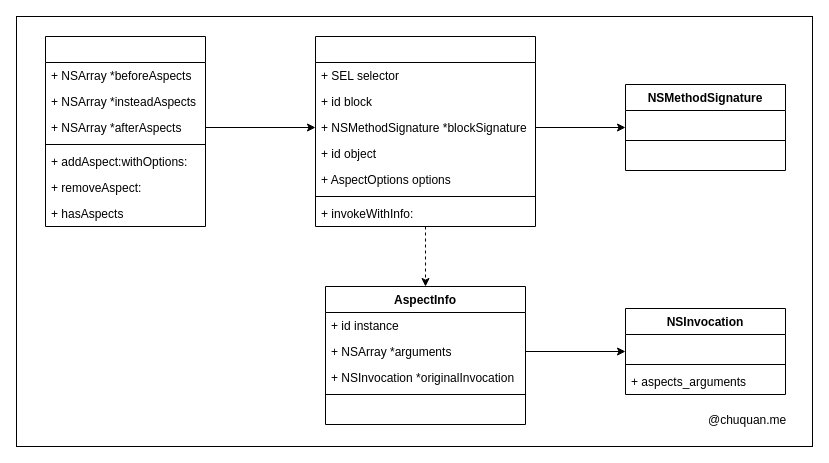
The diagram is 829 pixels wide and 463 high, and some of its shapes have lost their labels. The box of each missing label's shape, as (x1, y1, x2, y2) in pixels:
AspectIdentifier: (314, 36, 536, 226)
AspectsContainer: (44, 36, 206, 226)
